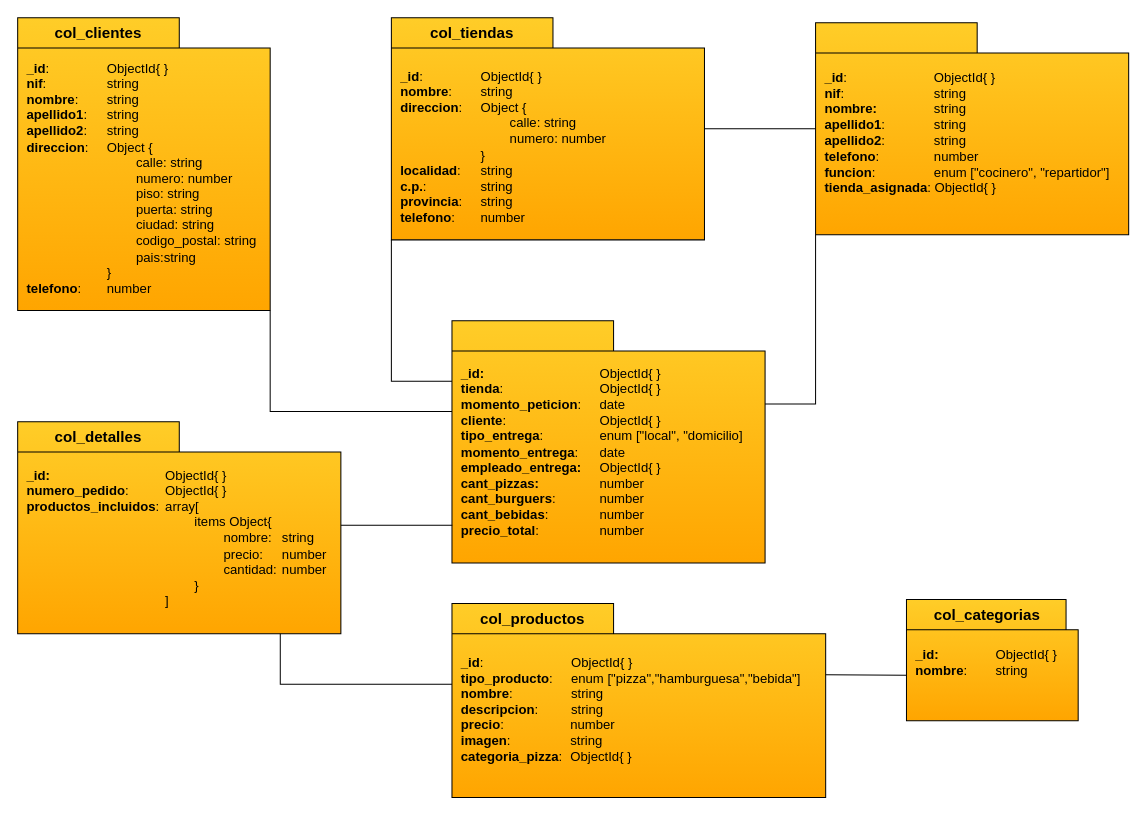
The diagram is 1146 pixels wide and 815 high, and some of its shapes have lost their labels. Each missing label, with the centre of its shape:
col_empleados: the point at 972,128
col_pedidos: the point at 608,441
